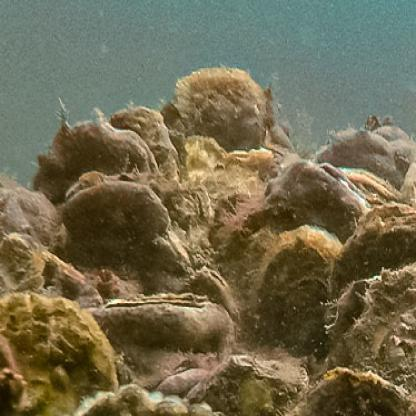3: (92, 294, 236, 388), (326, 264, 416, 395), (33, 116, 158, 198), (286, 161, 373, 243), (187, 265, 241, 316)
Oyster-Closed: (57, 182, 190, 294), (289, 371, 416, 416), (70, 385, 222, 416)
Oyster-Open: (0, 292, 118, 416), (172, 64, 268, 150), (329, 223, 416, 308), (261, 240, 329, 345), (195, 358, 298, 416), (113, 104, 182, 181), (6, 186, 65, 247)
